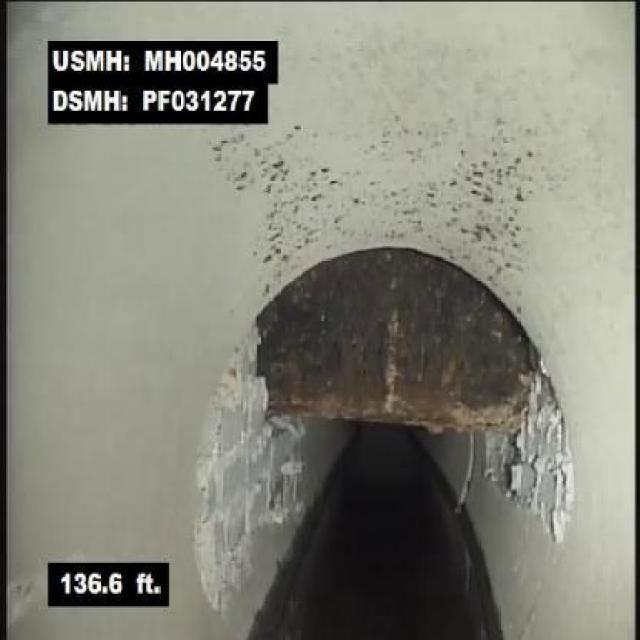Utility intrusion: (197, 244, 558, 436)
